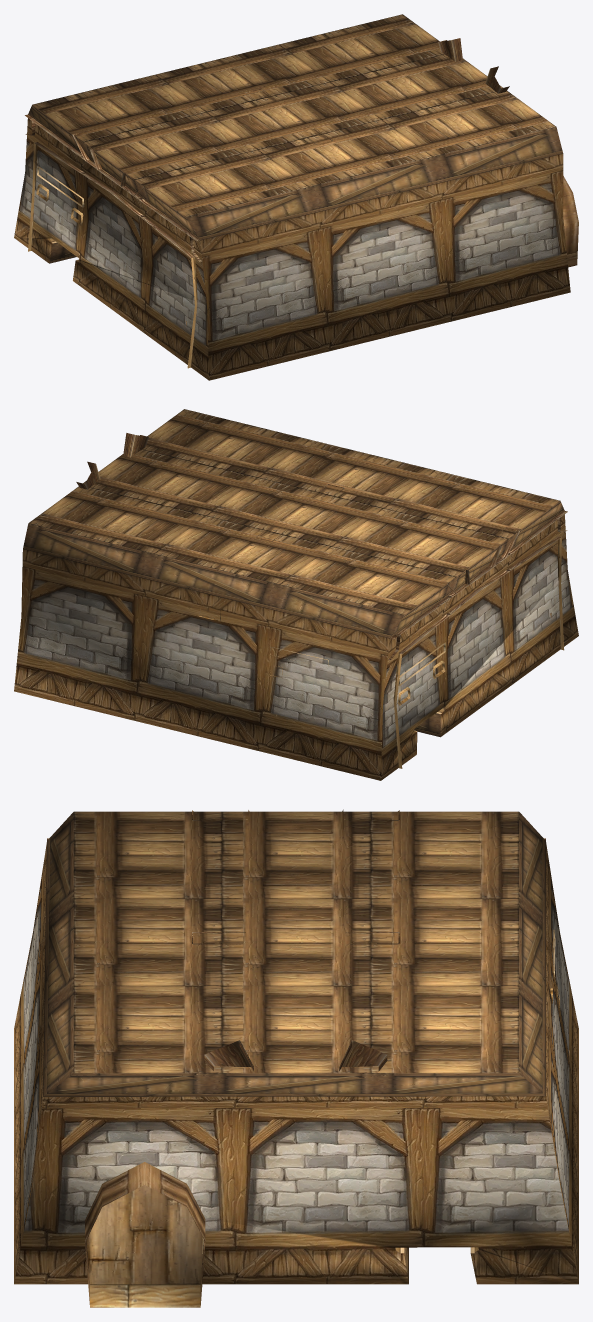
Rendered from stormwind_190.fbx.
3 views of the same model, one above another, from view 1: azimuth 30°, elevation 25°; view 2: azimuth 150°, elevation 25°; view 3: azimuth 270°, elevation 25° (orthographic). The views are drawn at different scales.
Parts seen in each view (by area): view 1: stormwind_190_87, stormwind_190_55, stormwind_190_56, stormwind_190_53, stormwind_190_49; view 2: stormwind_190_87, stormwind_190_55, stormwind_190_56, stormwind_190_53, stormwind_190_54; view 3: stormwind_190_55, stormwind_190_87, stormwind_190_56, stormwind_190_51, stormwind_190_53, stormwind_190_49.
Part boxes in pixels (left/top/right/bottom): stormwind_190_87: left=14, top=115, right=570, bottom=380; stormwind_190_55: left=32, top=14, right=556, bottom=216; stormwind_190_56: left=28, top=105, right=563, bottom=263; stormwind_190_53: left=25, top=38, right=555, bottom=368; stormwind_190_49: left=563, top=176, right=578, bottom=267; stormwind_190_87: left=14, top=511, right=578, bottom=780; stormwind_190_55: left=29, top=409, right=559, bottom=614; stormwind_190_56: left=23, top=501, right=564, bottom=737; stormwind_190_53: left=76, top=433, right=567, bottom=768; stormwind_190_54: left=269, top=643, right=445, bottom=731; stormwind_190_55: left=73, top=811, right=519, bottom=1073; stormwind_190_87: left=14, top=842, right=578, bottom=1284; stormwind_190_56: left=43, top=812, right=545, bottom=1282; stormwind_190_51: left=86, top=1185, right=203, bottom=1284; stormwind_190_53: left=18, top=809, right=559, bottom=1307; stormwind_190_49: left=85, top=1162, right=205, bottom=1305.
Size of the model in its own units: 17.7 by 7.1 by 14.96.
